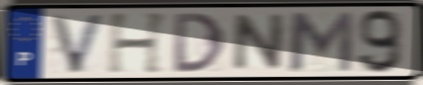9: (356, 8, 404, 75)
D: (171, 11, 228, 75)
H: (105, 10, 172, 76)
M: (287, 10, 357, 74)
N: (229, 12, 290, 73)
V: (48, 12, 109, 75)
